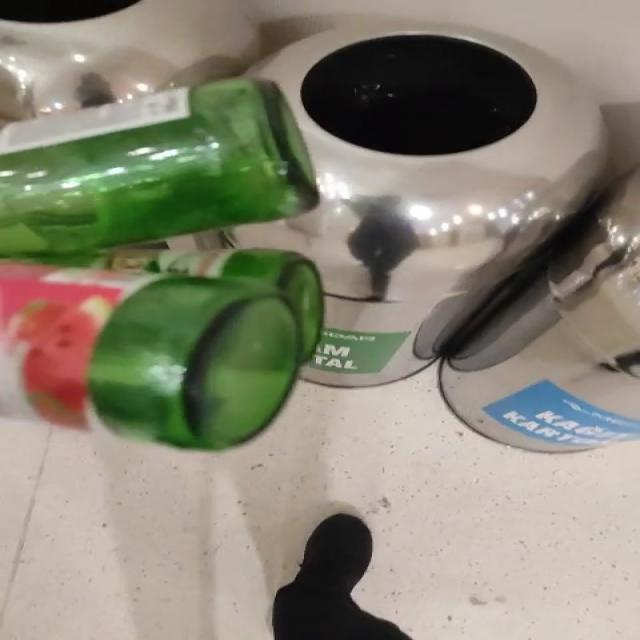bin: (235, 22, 608, 387), (1, 0, 257, 120)
glass: (0, 78, 323, 451)
